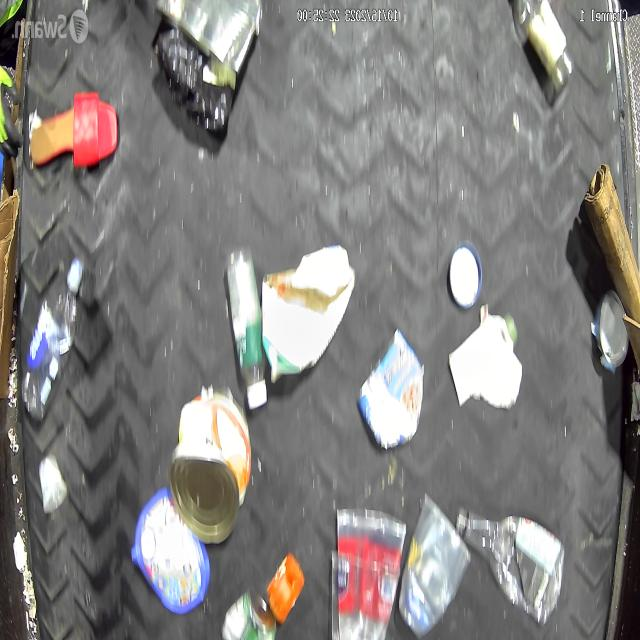can: (168, 386, 251, 546), (154, 0, 262, 73), (221, 587, 275, 640)
non_white_jug: (261, 245, 356, 382)
plastic_bottle: (455, 506, 561, 620), (22, 258, 84, 420), (228, 244, 266, 411), (518, 0, 574, 87)
